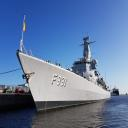Fragata: (16, 31, 113, 114)
